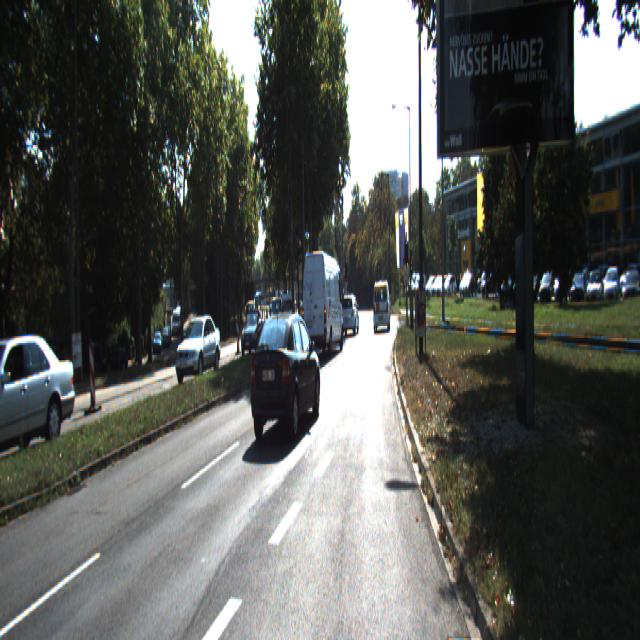Car: (0, 331, 78, 467), (248, 306, 322, 443), (175, 313, 220, 387), (241, 309, 265, 356), (341, 294, 359, 338)
DontCare: (407, 258, 639, 309), (152, 322, 172, 352)
Tram: (307, 270, 342, 324)
Van: (301, 243, 344, 357), (373, 280, 390, 332)
